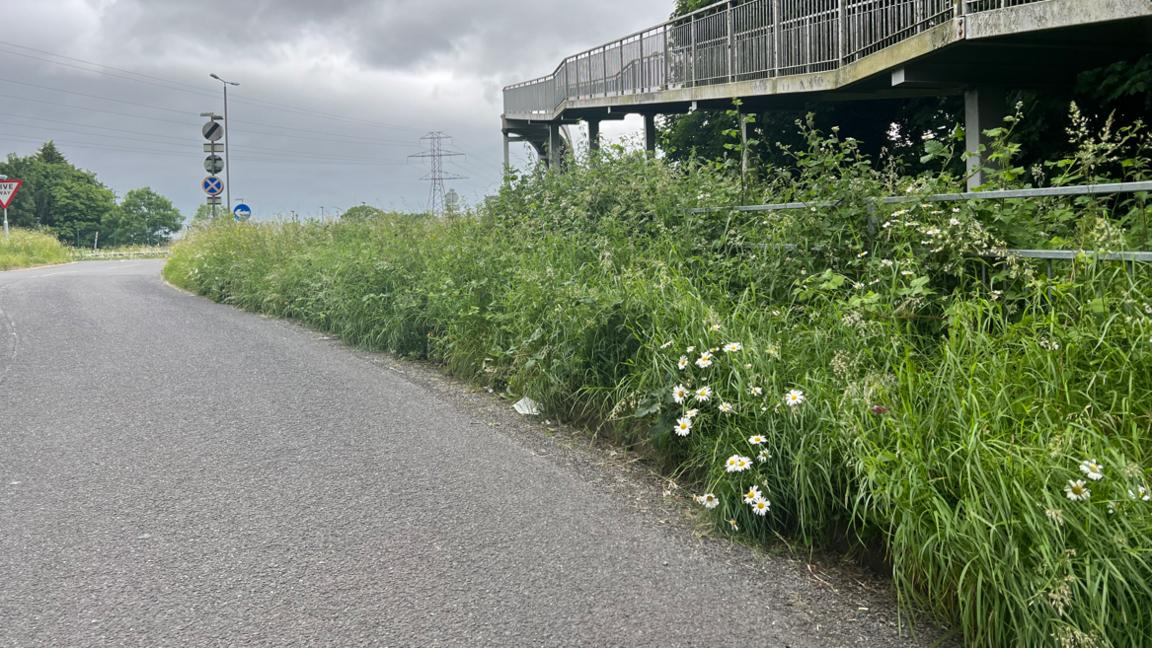overgrown grass: (172, 213, 1151, 644), (0, 236, 71, 269)
